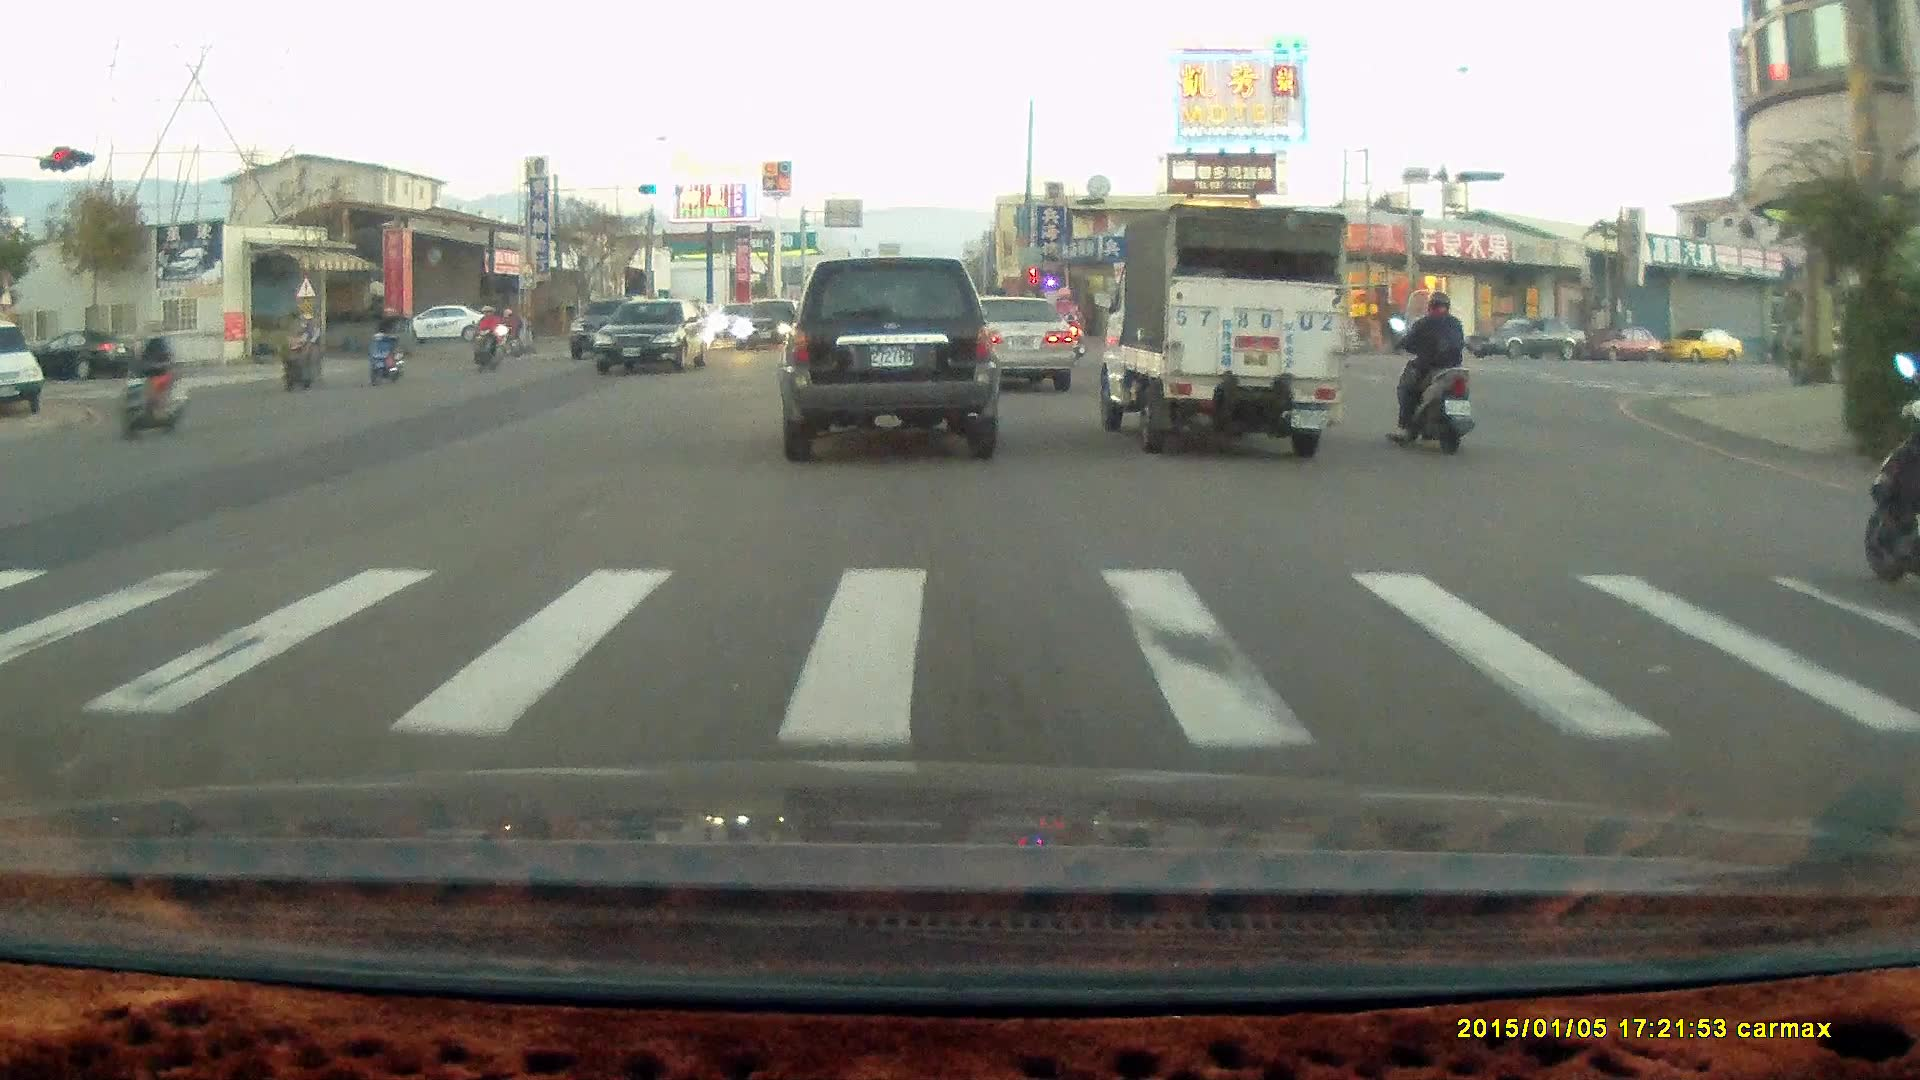rider: (1387, 288, 1475, 451), (1861, 366, 1920, 582), (105, 325, 189, 437), (277, 306, 324, 391), (367, 303, 406, 384), (472, 301, 502, 373)
vehicle: (1090, 202, 1350, 457), (777, 255, 1000, 463), (954, 292, 1078, 392), (958, 292, 1078, 394), (593, 301, 717, 379), (1465, 314, 1587, 361), (1, 314, 46, 413), (732, 295, 800, 352), (413, 302, 496, 345), (1659, 328, 1747, 365), (1586, 325, 1665, 363)
